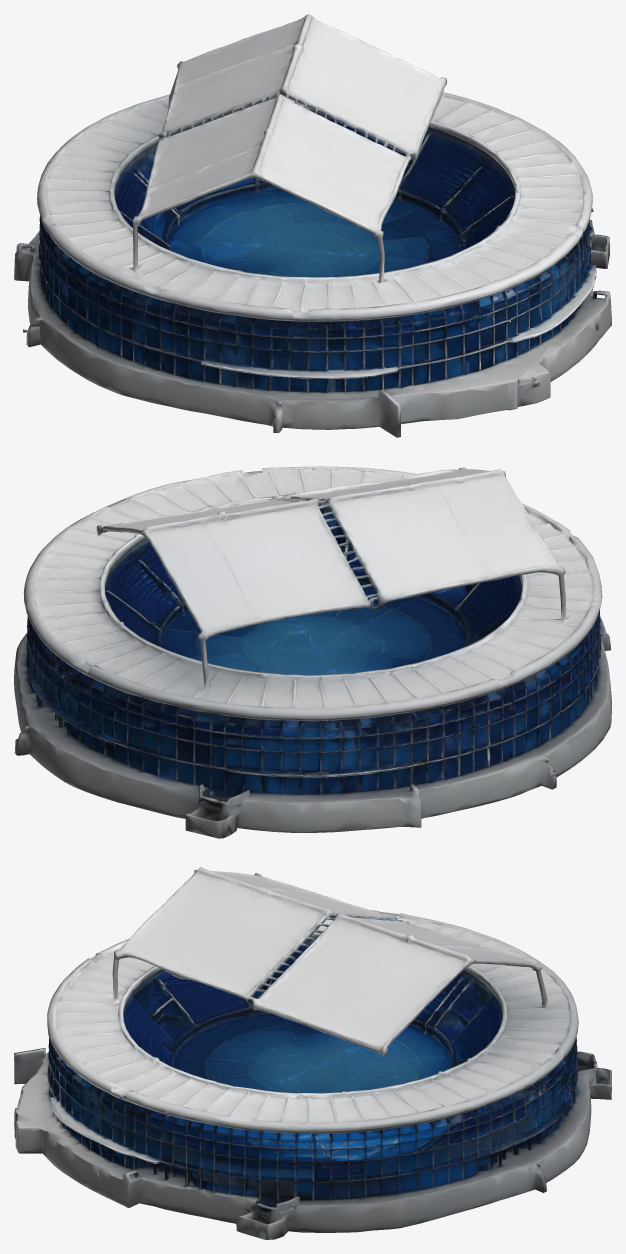
The model's file is stadion_ao.glb.
The picture shows the model from 3 angles, top to bottom: view 1: azimuth 30°, elevation 25°; view 2: azimuth 150°, elevation 25°; view 3: azimuth 270°, elevation 25°; orthographic projection. The views are drawn at different scales.
Parts seen in each view (by area): view 1: tripo_node_3b8656a0-a44b-4786-b98c-cf9a1bf3c4da; view 2: tripo_node_3b8656a0-a44b-4786-b98c-cf9a1bf3c4da; view 3: tripo_node_3b8656a0-a44b-4786-b98c-cf9a1bf3c4da.
Boxes of the visible parts, bbox=[...] form: tripo_node_3b8656a0-a44b-4786-b98c-cf9a1bf3c4da: bbox=[14, 14, 611, 437]; tripo_node_3b8656a0-a44b-4786-b98c-cf9a1bf3c4da: bbox=[14, 466, 611, 838]; tripo_node_3b8656a0-a44b-4786-b98c-cf9a1bf3c4da: bbox=[14, 867, 611, 1239].
Size of the model in its own units: 0.9678 by 0.3695 by 1.
Materials: 1 (1 with a texture image).
